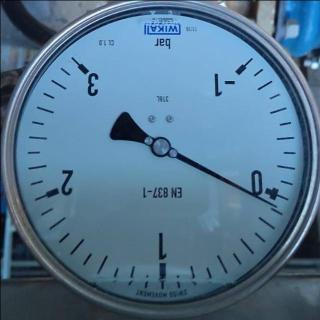gauge: (0, 0, 320, 320), (212, 53, 252, 92), (70, 54, 98, 86), (150, 136, 172, 160), (270, 202, 280, 210)
